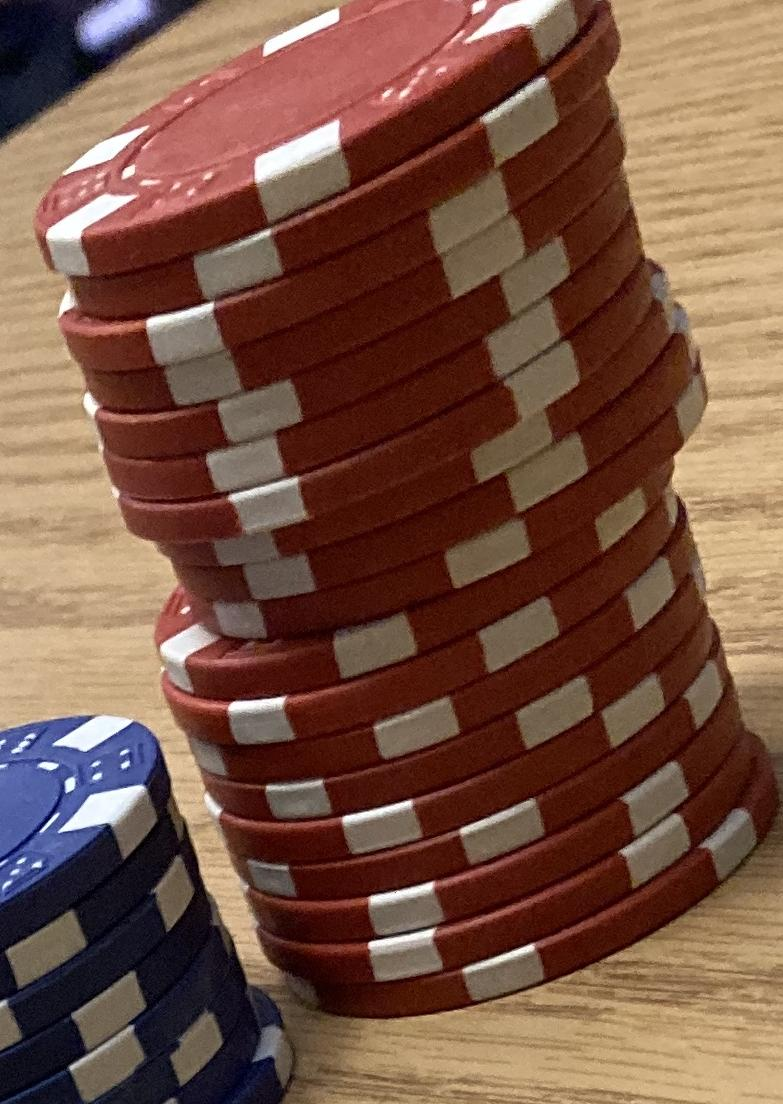Chip: (1, 1, 783, 1104)
